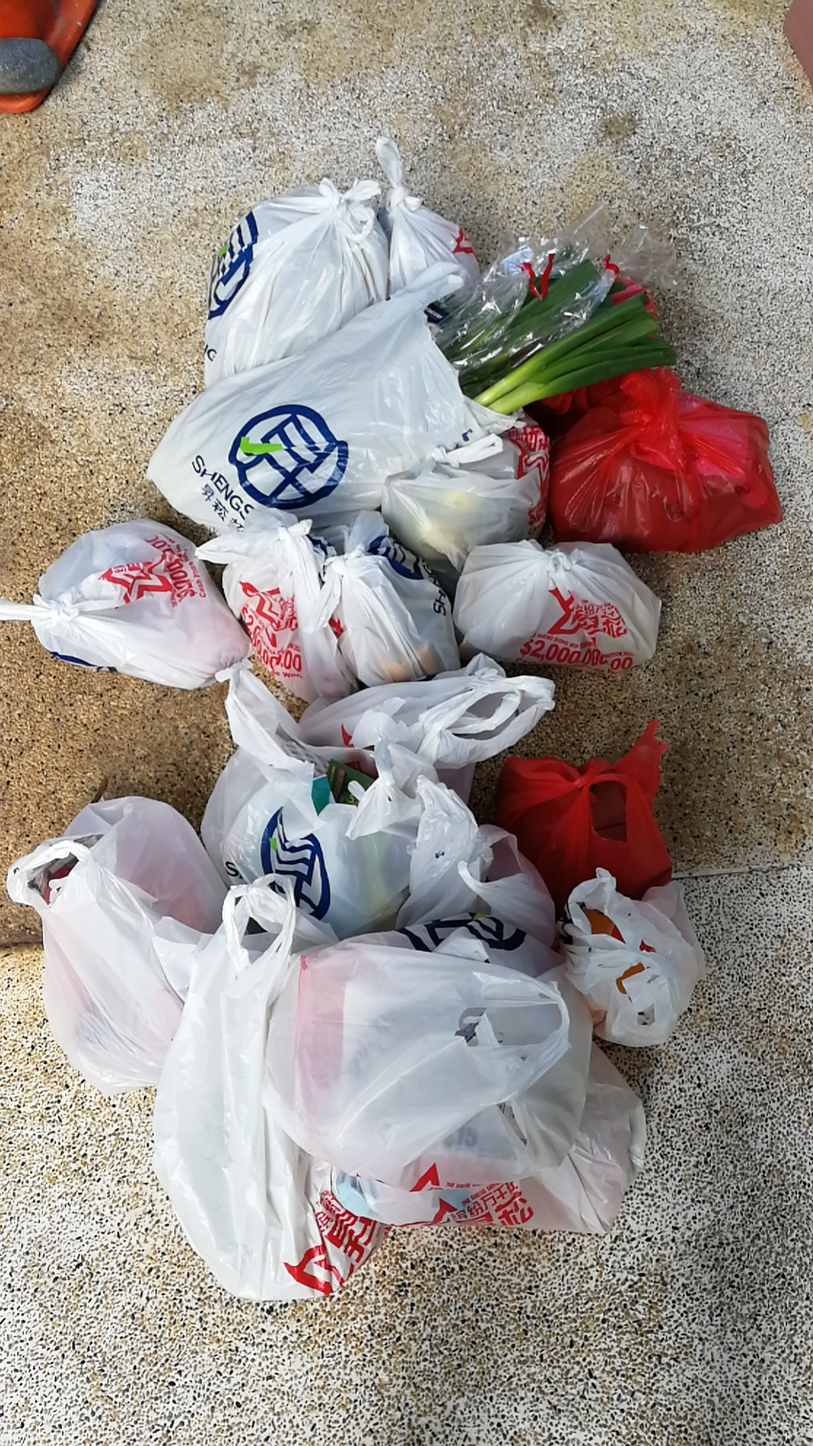normal_waste: (270, 929, 644, 1224), (154, 885, 385, 1302), (148, 290, 505, 529), (7, 797, 226, 1094), (202, 673, 422, 937), (0, 519, 250, 689), (550, 368, 781, 551), (294, 654, 554, 801), (203, 179, 387, 386), (498, 720, 670, 913), (198, 514, 354, 702), (454, 541, 661, 674), (382, 419, 549, 582), (324, 514, 459, 686), (179, 300, 363, 340)
